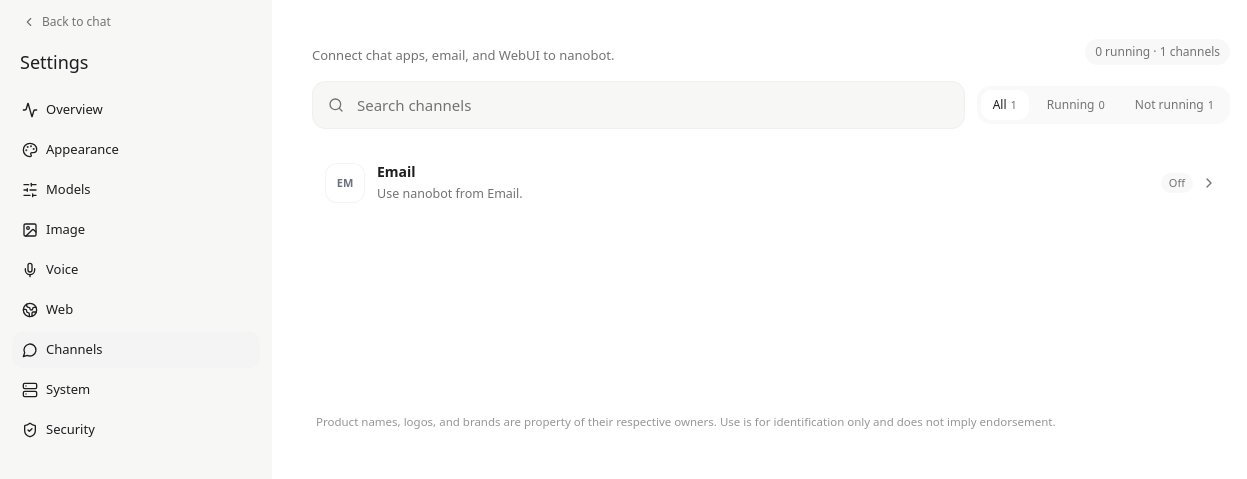
Test case: SettingsView Apps catalog › uses a list-to-detail navigation stack on compact screens
The image size is (1247, 479).
Click the button with aria-label "View Email settings": coordinates (345, 183) [312,149,1230,217]
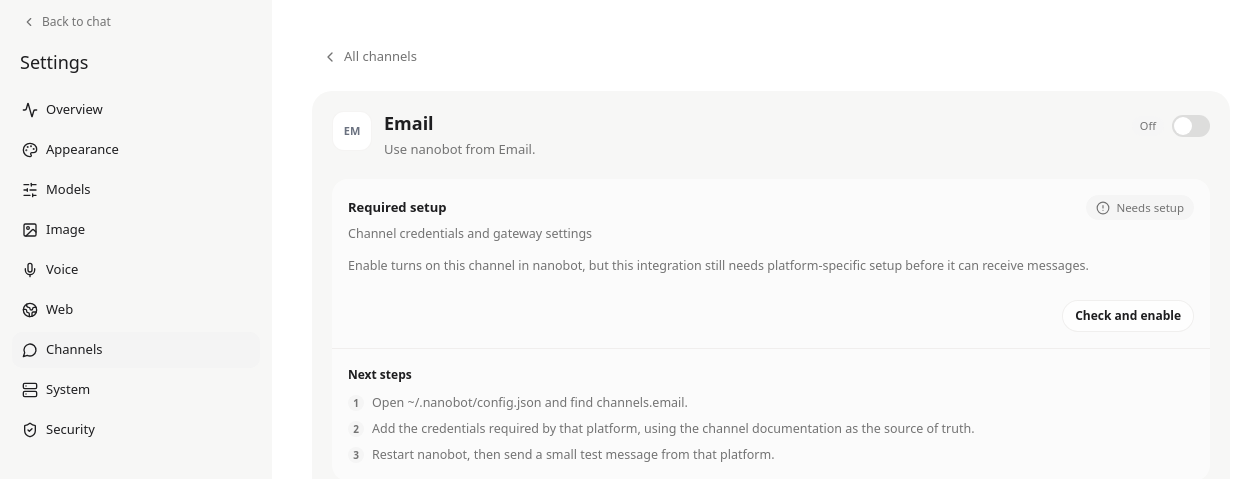
Expected: the field with placeholder "Search channels" is not shown
Expected: the button "All channels" is shown
Expected: the switch named "Email channel" is shown, [1172,115,1210,137]
Click the button "All channels": coordinates (370, 57) [312,39,427,75]
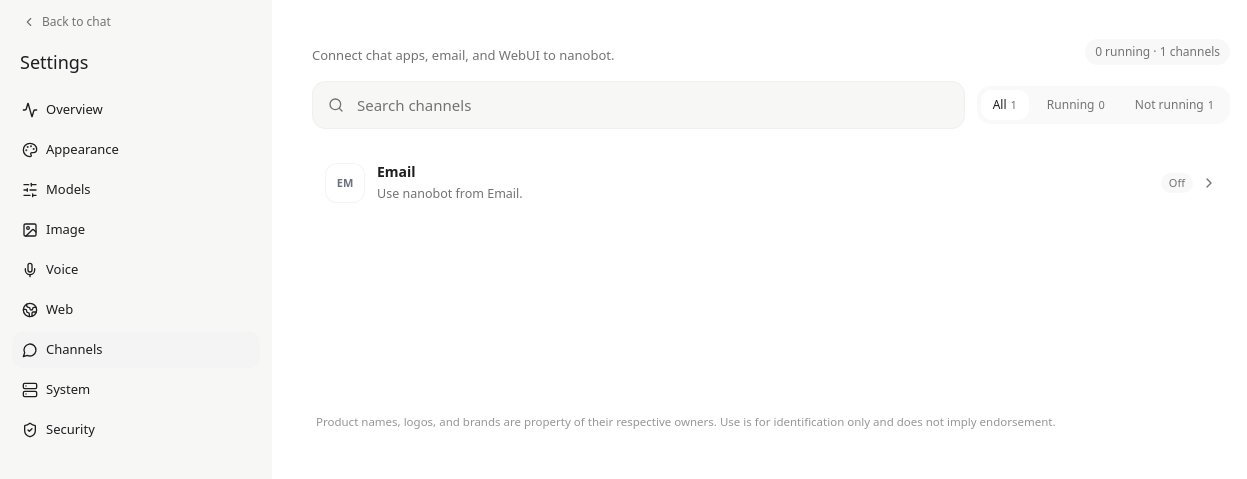
Expected: the button with aria-label "View Email settings" is shown, [312,149,1230,217]
Expected: the field with placeholder "Search channels" is shown, [312,81,965,129]
